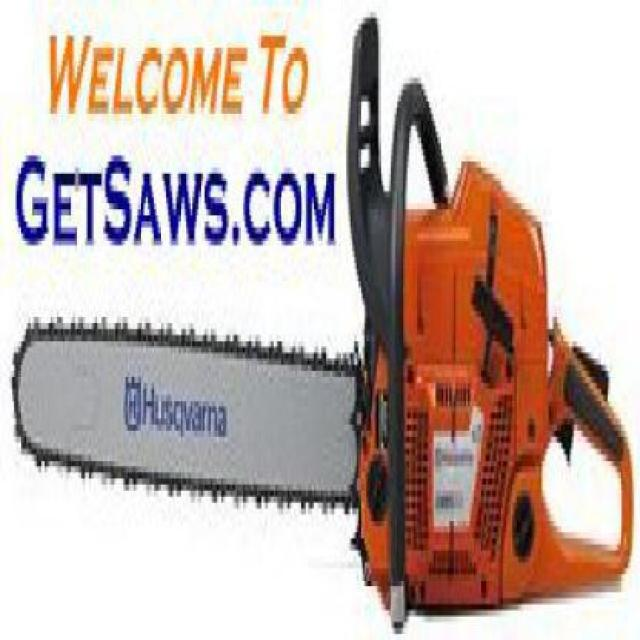Chainsaw: (10, 6, 636, 634)
